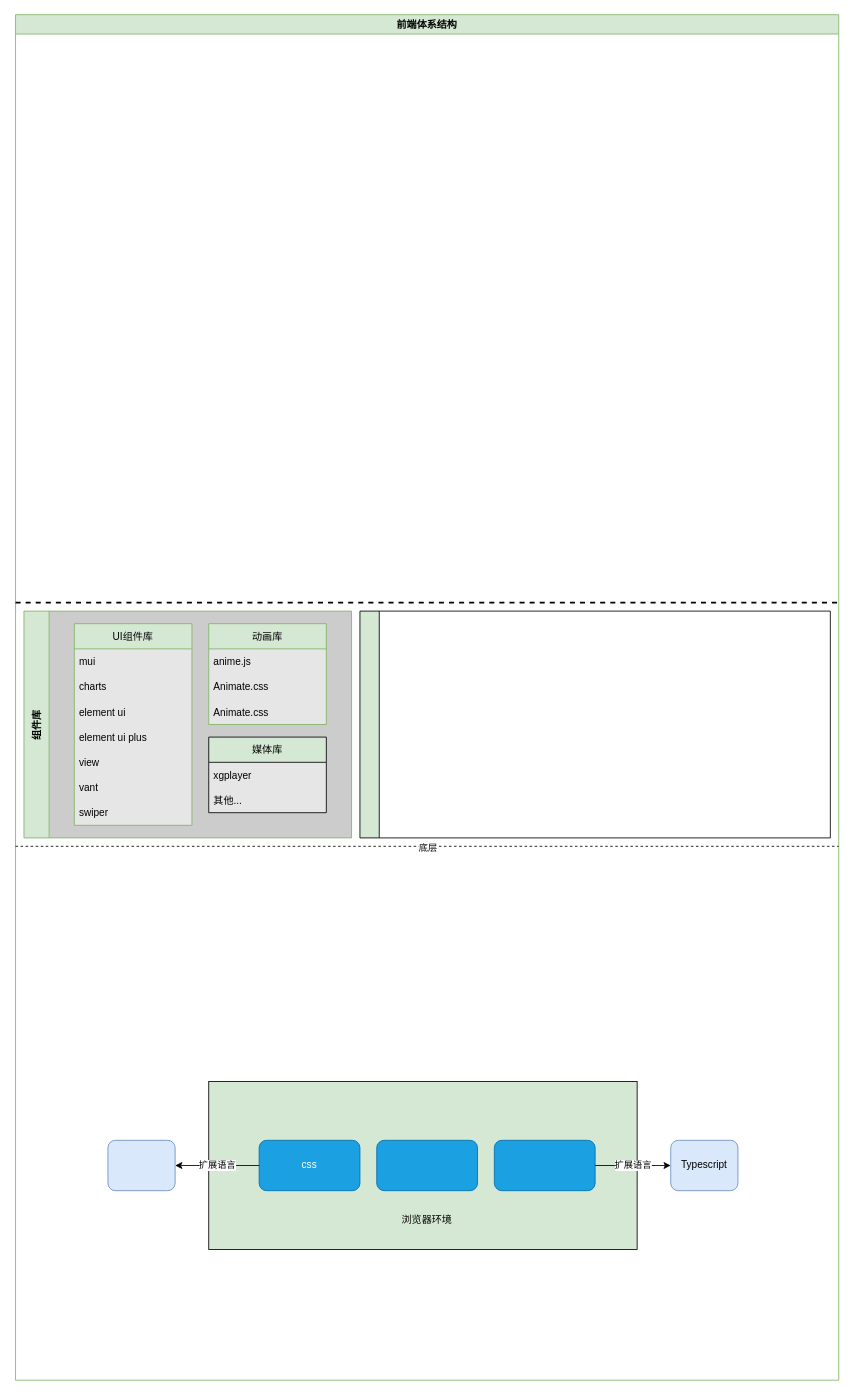
This 854x1395 diagram has some shape labels left out. Each missing label, with the centre of its shape:
Horizontal Container: (594,724)
html: (427,1165)
JavaScript: (544,1165)
sass/sacc: (141,1165)
